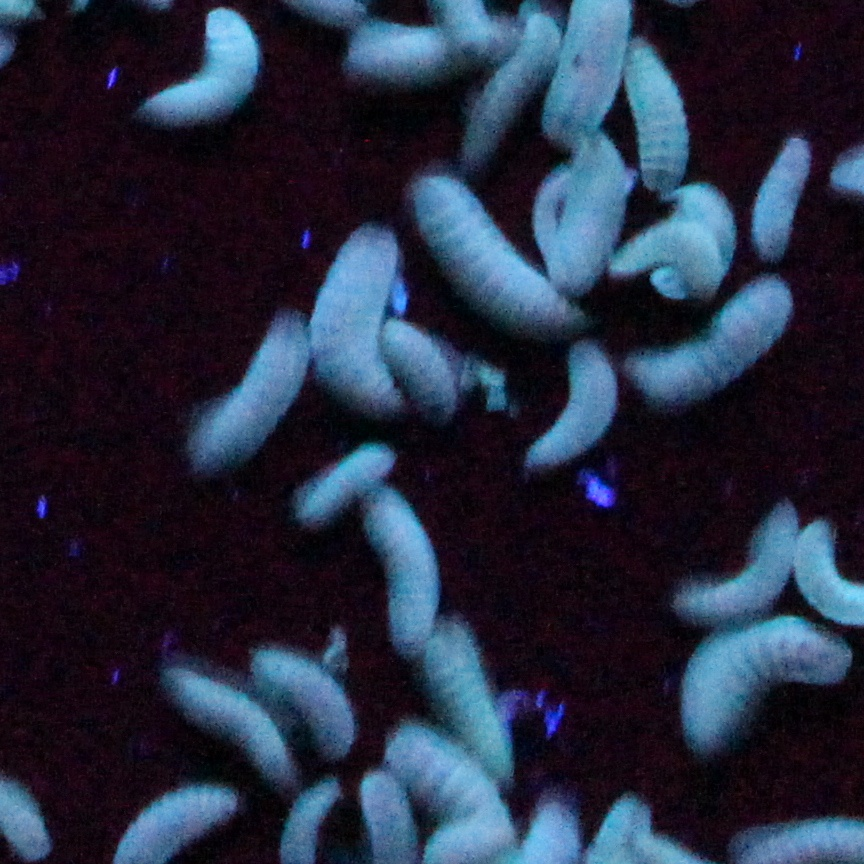larve: (405, 176, 593, 332), (616, 276, 789, 405), (680, 622, 847, 749), (183, 312, 312, 466), (168, 664, 299, 789), (668, 505, 799, 626), (320, 228, 401, 418), (147, 5, 264, 126), (430, 620, 518, 780), (362, 480, 441, 657), (526, 343, 618, 474), (258, 649, 358, 757), (349, 16, 524, 74), (745, 132, 812, 266), (291, 443, 395, 520), (385, 322, 460, 422)
